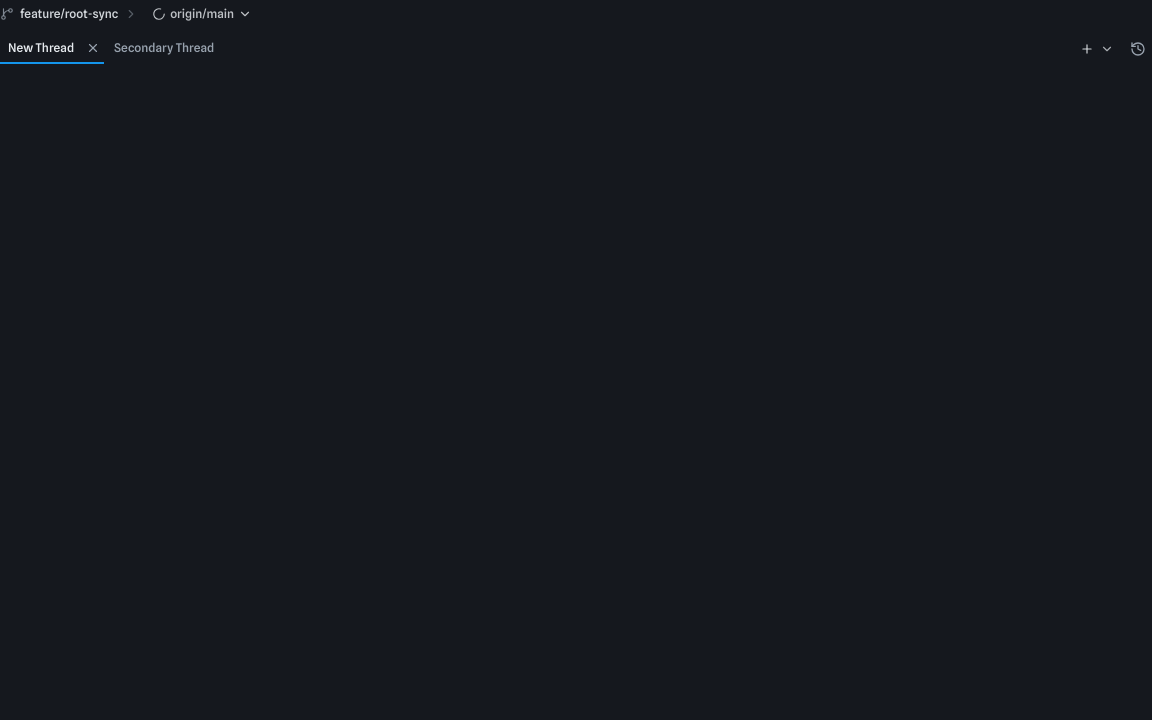
WorkspaceHeader › keeps the target branch selector available while branches are still loading
Click the button with test id "workspace-target-branch-trigger": (202, 14) [144,0,260,28]
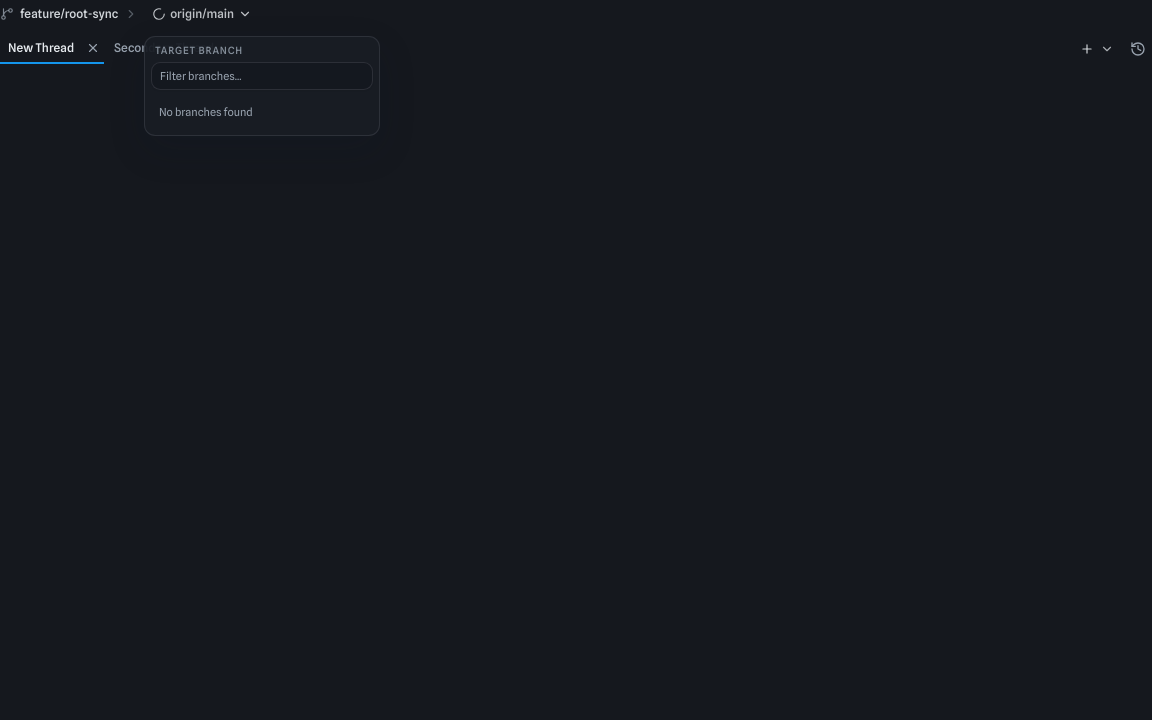
expect the field with test id "workspace-target-branch-filter" is shown: met, box [151,62,373,90]
expect the text with test id "workspace-target-branch-empty" reads "No branches found": met, box [159,105,253,119]
